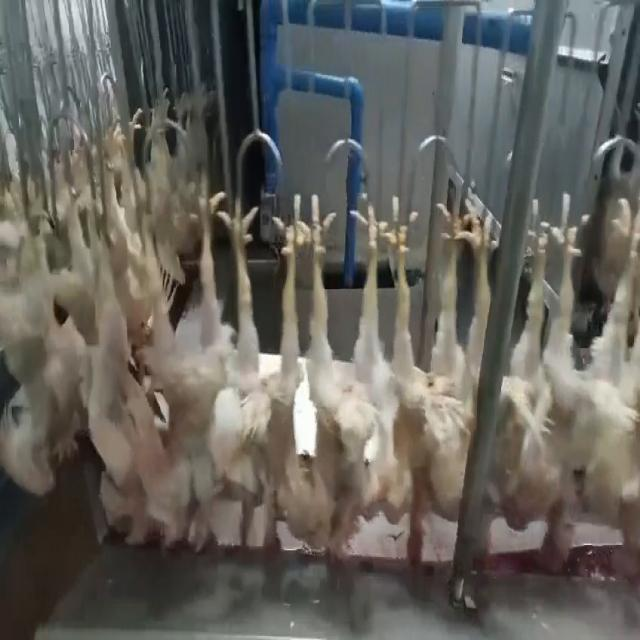chicken: (107, 189, 226, 548), (377, 194, 490, 566), (485, 187, 590, 572), (292, 187, 381, 568), (213, 185, 303, 546), (576, 202, 640, 584), (20, 193, 99, 497)
